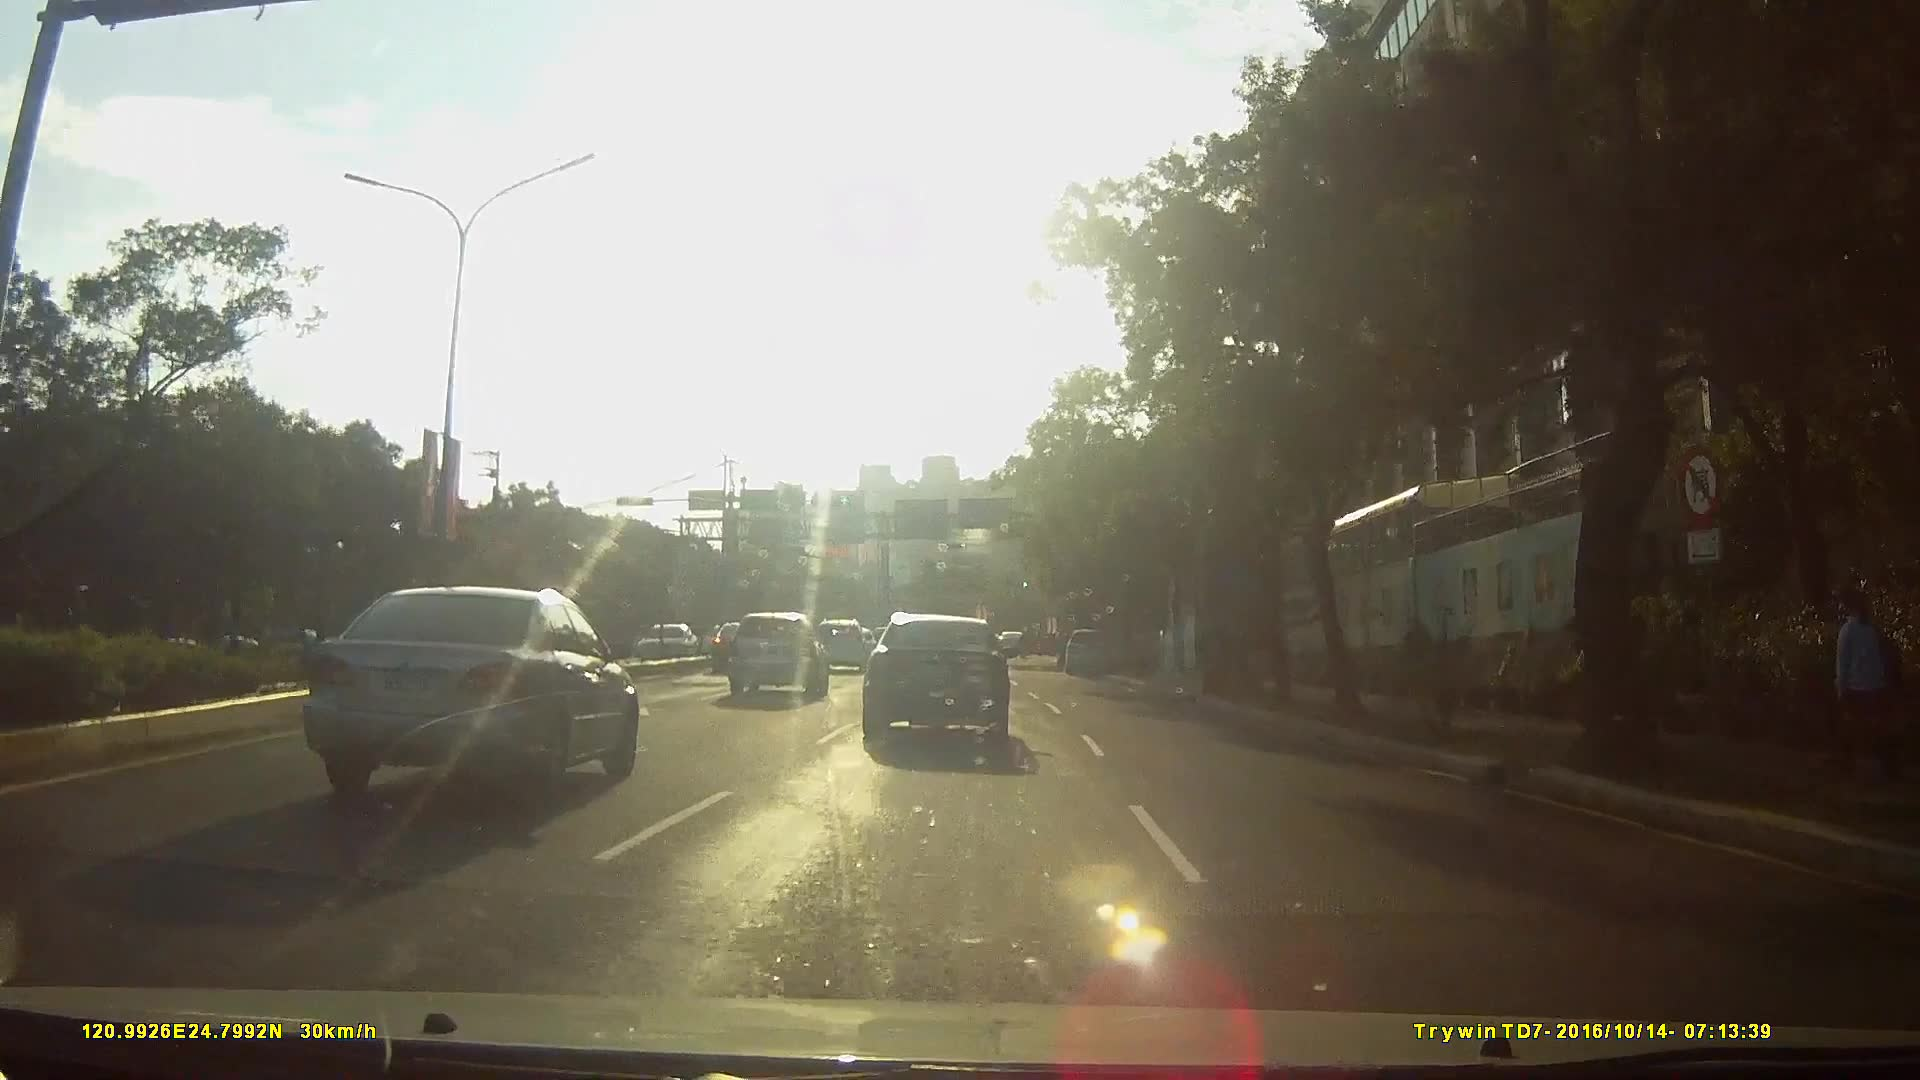pedestrian: (1830, 587, 1897, 783)
vehicle: (276, 582, 651, 816), (862, 611, 1035, 758), (723, 611, 828, 704), (626, 618, 713, 667), (806, 620, 868, 678), (698, 624, 760, 681), (1060, 630, 1114, 680), (699, 624, 742, 660)
